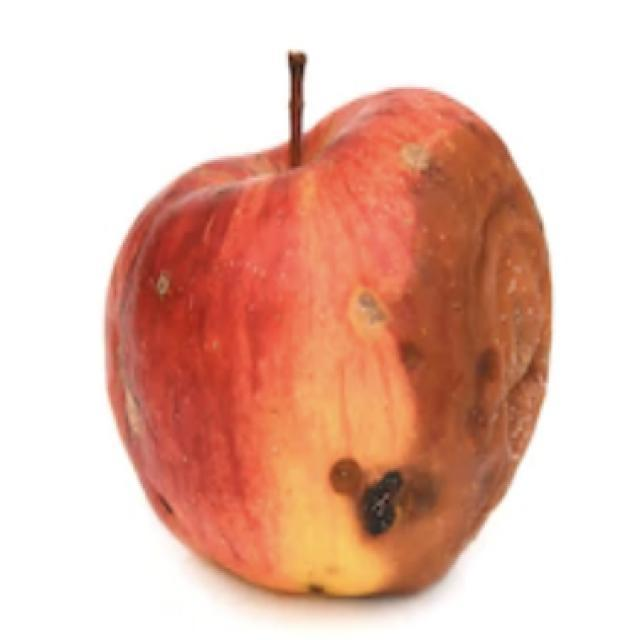Rotten: (103, 87, 552, 598)
